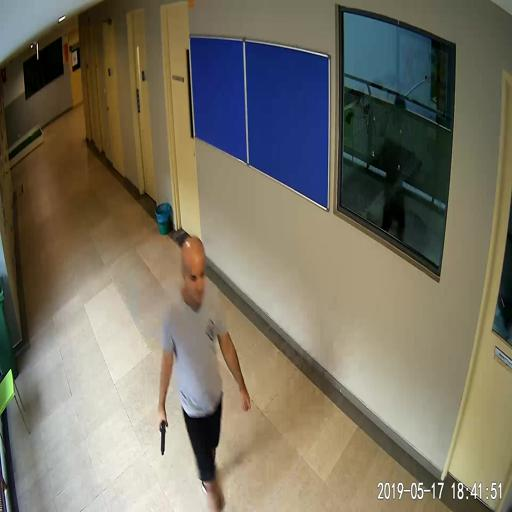pistol: (158, 413, 167, 455)
